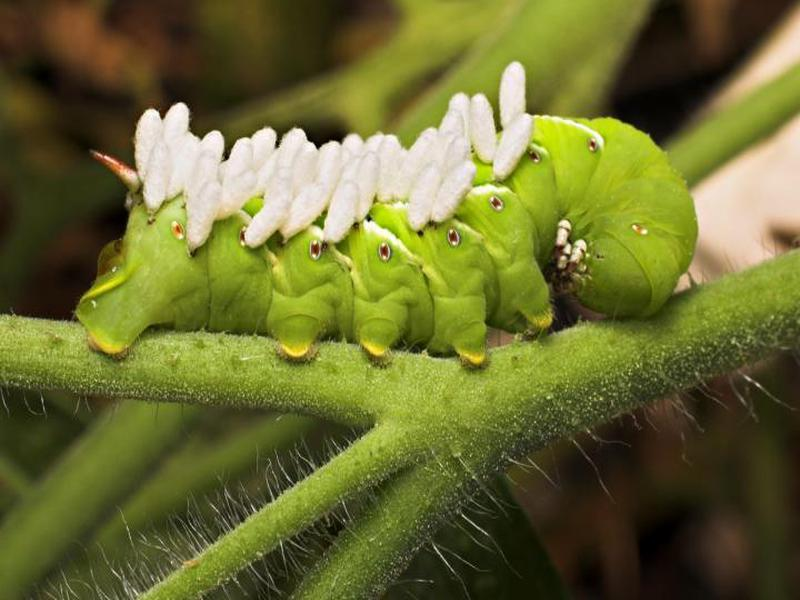Rice_horned_caterpillar: (73, 78, 722, 383)
